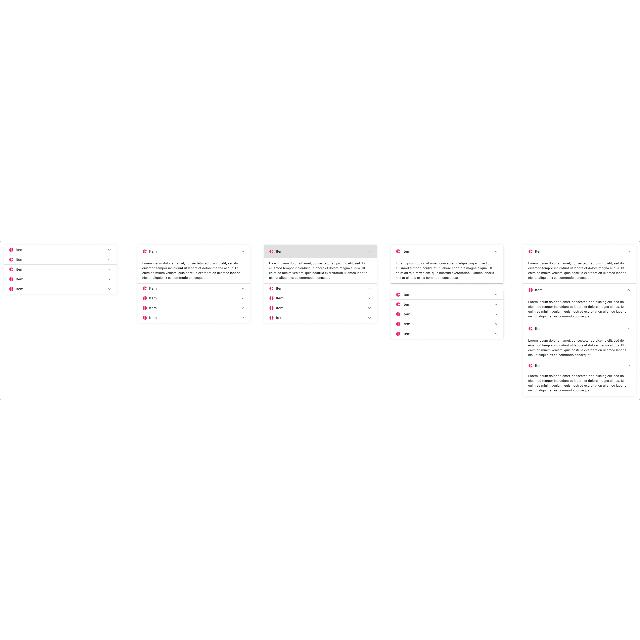QLabel: (142, 261, 242, 279), (528, 338, 628, 356), (396, 261, 494, 279), (528, 261, 626, 279), (528, 299, 626, 317), (528, 373, 626, 391), (269, 262, 367, 278), (15, 276, 23, 280), (149, 248, 157, 252), (149, 286, 157, 290), (149, 296, 157, 300), (276, 248, 284, 252), (276, 286, 284, 290), (402, 302, 410, 306), (402, 292, 410, 296), (535, 248, 543, 252), (15, 286, 22, 290), (535, 326, 543, 329), (15, 258, 23, 260), (149, 306, 157, 308), (149, 316, 157, 318), (276, 296, 284, 298), (276, 306, 284, 308), (276, 316, 284, 318), (402, 332, 410, 334), (402, 322, 410, 324), (402, 312, 410, 314), (15, 248, 22, 250), (15, 268, 22, 270), (536, 364, 542, 366), (536, 288, 542, 290)
VExpansionPanel: (138, 244, 250, 282), (265, 244, 377, 282), (524, 244, 636, 282), (524, 322, 636, 360), (392, 244, 502, 282), (524, 284, 636, 320), (524, 361, 636, 395), (138, 292, 250, 302), (138, 302, 250, 312), (138, 312, 250, 322), (264, 282, 376, 292), (5, 254, 116, 264), (392, 288, 502, 298), (392, 318, 502, 328), (5, 244, 116, 253), (138, 284, 250, 292), (265, 293, 377, 301), (264, 303, 376, 311), (265, 313, 377, 321), (5, 265, 116, 273), (5, 275, 116, 283), (5, 284, 116, 292), (392, 300, 502, 308), (392, 310, 502, 318), (392, 329, 502, 337)
VIcon: (9, 247, 13, 251), (9, 257, 13, 261), (9, 266, 13, 270), (9, 276, 13, 280), (9, 286, 13, 290), (142, 248, 146, 252), (143, 286, 147, 290), (143, 295, 147, 299), (143, 305, 147, 309), (143, 315, 147, 319), (269, 315, 273, 319), (269, 305, 273, 309), (269, 286, 273, 290), (269, 248, 273, 252), (396, 248, 400, 252), (396, 292, 400, 296), (396, 302, 400, 306), (396, 311, 400, 315), (396, 321, 400, 325), (396, 331, 400, 335), (529, 248, 533, 252), (529, 287, 533, 291), (529, 363, 533, 367), (270, 295, 272, 299), (530, 326, 532, 330)
